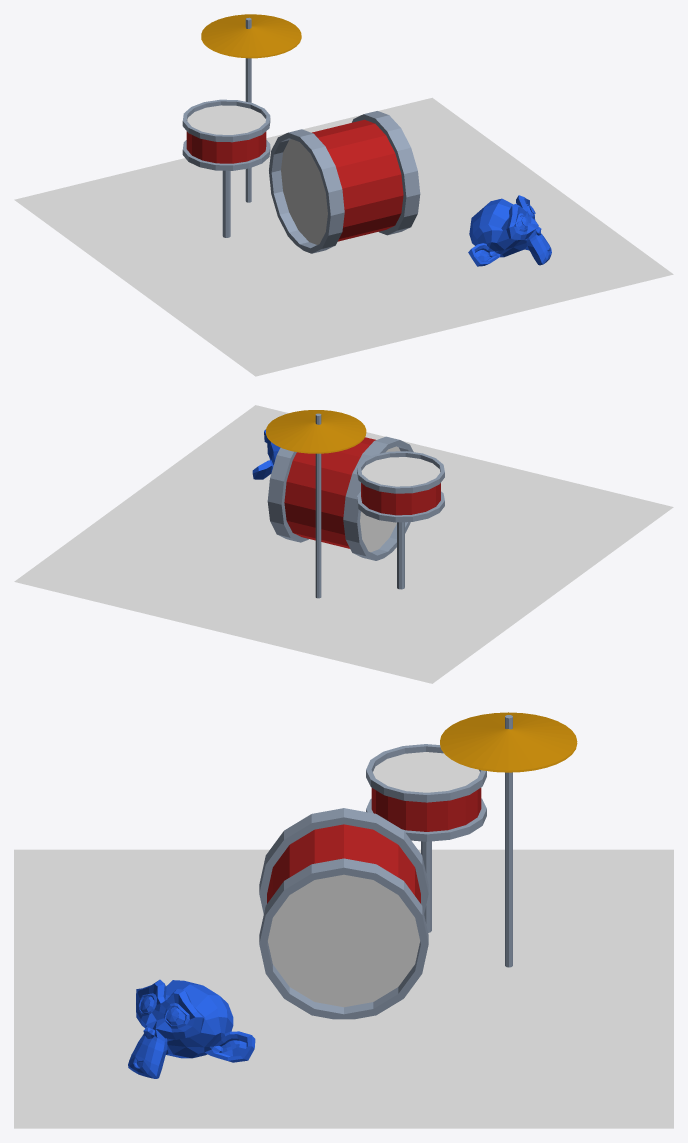
The model's file is drum-kit.glb.
3 renders of one model, top to bottom at view 1: azimuth 30°, elevation 25°; view 2: azimuth 150°, elevation 25°; view 3: azimuth 270°, elevation 25°, orthographic. The views are drawn at different scales.
Parts seen in each view (by area): view 1: Plane, Bass Body.001, Suzanne, Snare Top Rim.002, Snare Body, Cone.002, Snare Top Rim.001, Snare Top Rim, Snare Bottom Rim, HiHat Body, Cylinder.001; view 2: Plane, Bass Body.001, Snare Body, Cone.002, Snare Top Rim.002, Snare Top Rim.001, Snare Top Rim, HiHat Body, Snare Bottom Rim, Cylinder.001, Suzanne; view 3: Plane, Bass Body.001, Suzanne, Snare Top Rim.001, Snare Body, Cone.002, Snare Top Rim.002, Snare Top Rim, HiHat Body, Snare Bottom Rim, Cylinder.001.
Part boxes in pixels (<box>): Plane: <box>14,97,673,376</box>; Bass Body.001: <box>281,119,403,244</box>; Suzanne: <box>468,195,551,266</box>; Snare Top Rim.002: <box>269,129,344,253</box>; Snare Body: <box>186,105,266,163</box>; Cone.002: <box>201,14,301,56</box>; Snare Top Rim.001: <box>352,111,420,235</box>; Snare Top Rim: <box>182,99,270,142</box>; Snare Bottom Rim: <box>182,140,270,170</box>; HiHat Body: <box>245,17,251,202</box>; Cylinder.001: <box>222,170,230,237</box>; Plane: <box>14,405,673,683</box>; Bass Body.001: <box>284,437,400,552</box>; Snare Body: <box>361,457,440,515</box>; Cone.002: <box>266,410,366,452</box>; Snare Top Rim.002: <box>343,436,413,560</box>; Snare Top Rim.001: <box>267,447,308,542</box>; Snare Top Rim: <box>357,451,444,493</box>; HiHat Body: <box>315,413,321,598</box>; Snare Bottom Rim: <box>357,491,444,522</box>; Cylinder.001: <box>397,522,404,589</box>; Suzanne: <box>252,429,280,479</box>; Plane: <box>14,849,673,1128</box>; Bass Body.001: <box>267,824,420,1007</box>; Suzanne: <box>128,979,255,1078</box>; Snare Top Rim.001: <box>259,858,428,1019</box>; Snare Body: <box>371,752,481,831</box>; Cone.002: <box>440,712,577,770</box>; Snare Top Rim.002: <box>259,808,428,914</box>; Snare Top Rim: <box>366,744,486,802</box>; HiHat Body: <box>505,715,512,967</box>; Snare Bottom Rim: <box>366,798,486,841</box>; Cylinder.001: <box>421,841,431,932</box>.
Size of the model in its own units: 12 by 5.05 by 12.
